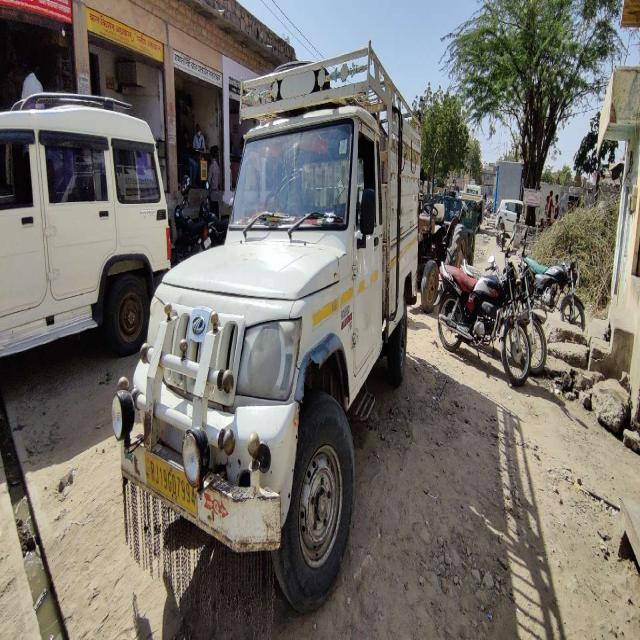light_vehicle: (115, 112, 422, 555)
